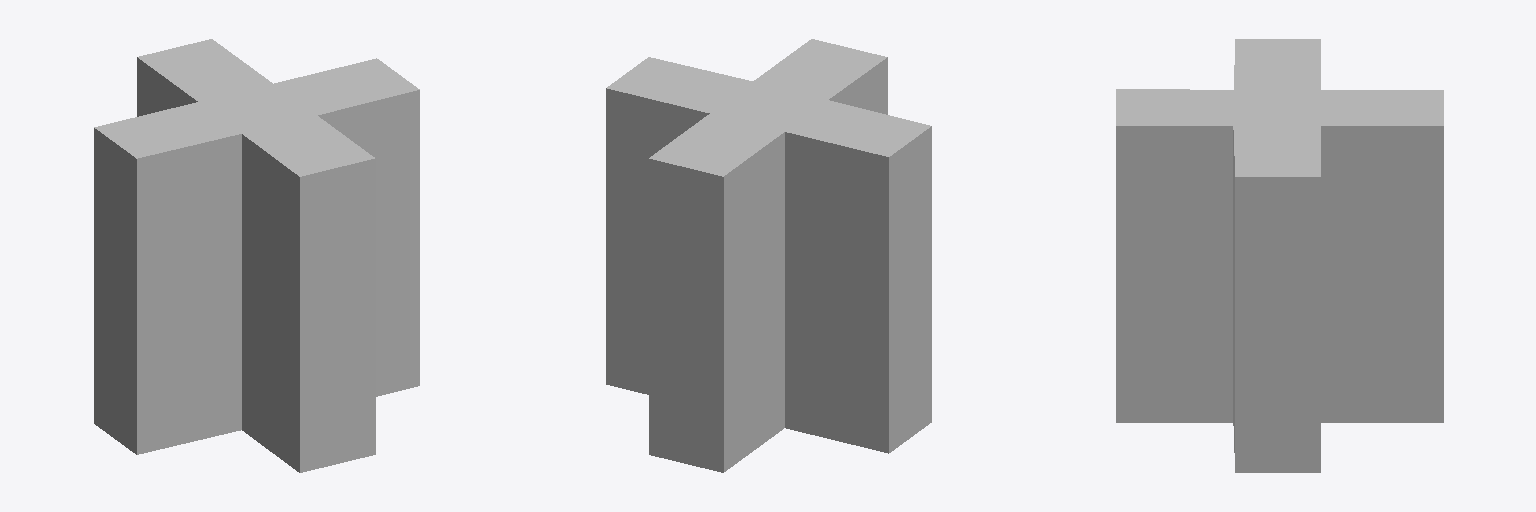
File: wall_crossing.obj
The picture shows the model from 3 angles: view 1: azimuth 30°, elevation 25°; view 2: azimuth 150°, elevation 25°; view 3: azimuth 270°, elevation 25°; orthographic projection.
Visible parts, largest first — view 1: Cube; view 2: Cube; view 3: Cube.
Part boxes in pixels (x1,y1,x2,y2): Cube: (94,39,419,472); Cube: (606,39,931,472); Cube: (1116,39,1443,472).
Size of the model in its own units: 4 by 4 by 4.